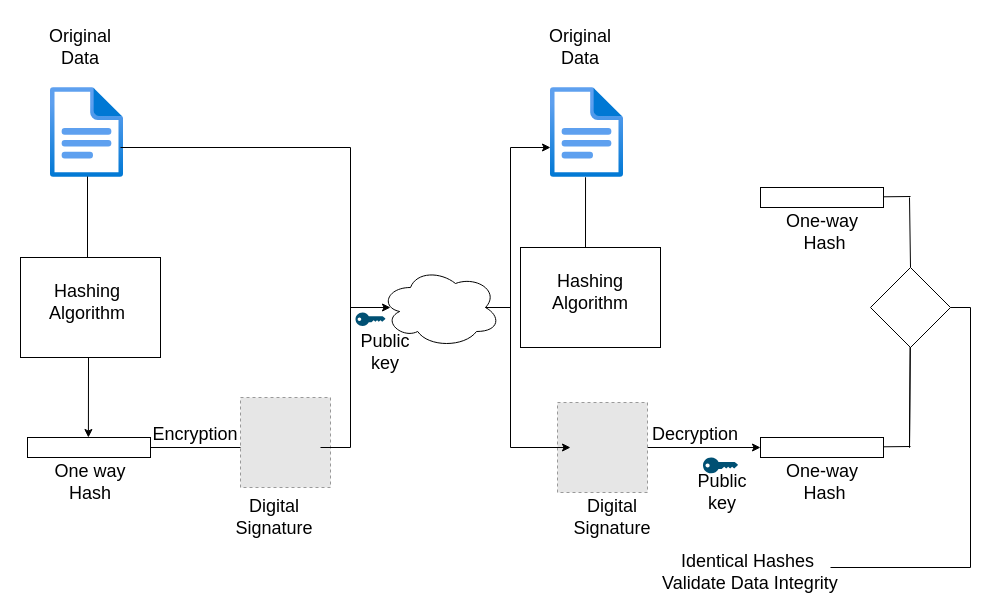
Image size: 989x611. Some labels were removed from this diagram. Grey dashed boxes stand in for pictures. Each missing label, with the centre of its shape:
"Equal" belongs at point 910,307.
"Network" belongs at point 440,307.
